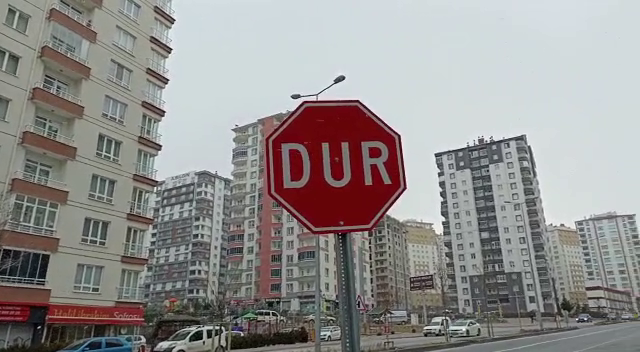stop: (262, 98, 409, 238)
